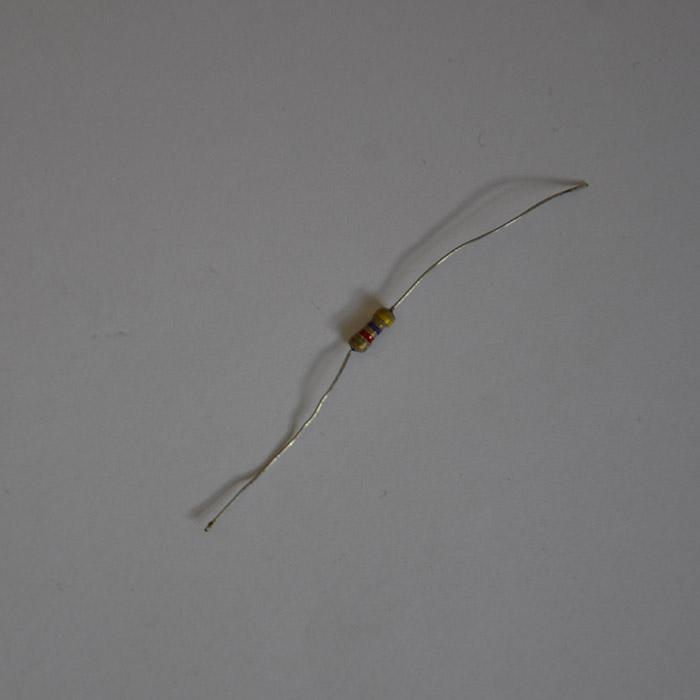resistor: (343, 304, 400, 358)
